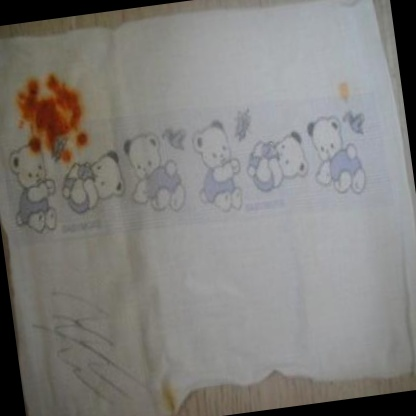kimchi: (9, 72, 92, 164), (31, 101, 71, 138), (334, 75, 357, 106), (44, 74, 66, 96), (19, 78, 41, 98), (26, 131, 45, 154), (61, 146, 76, 164), (78, 131, 91, 144)
